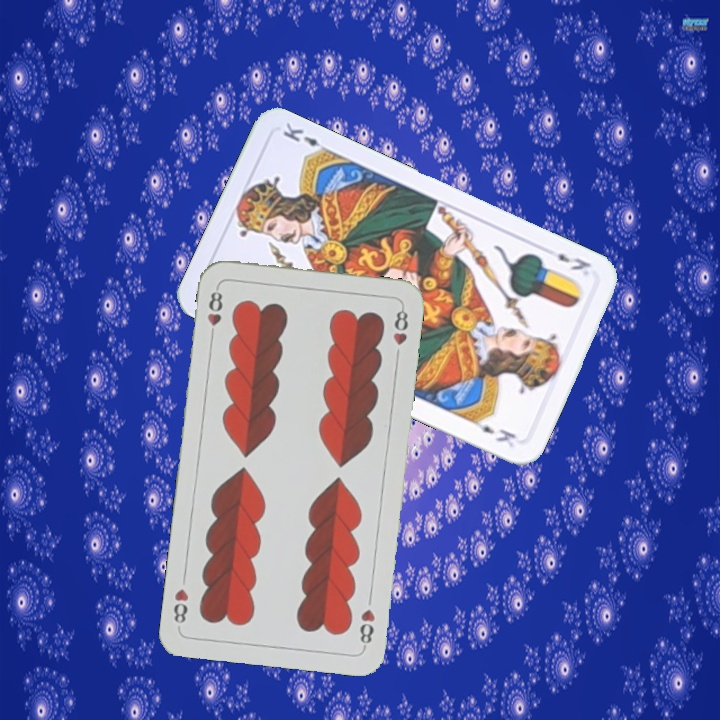EK: (553, 249, 594, 274)
H8: (203, 283, 225, 342), (356, 605, 378, 651)
